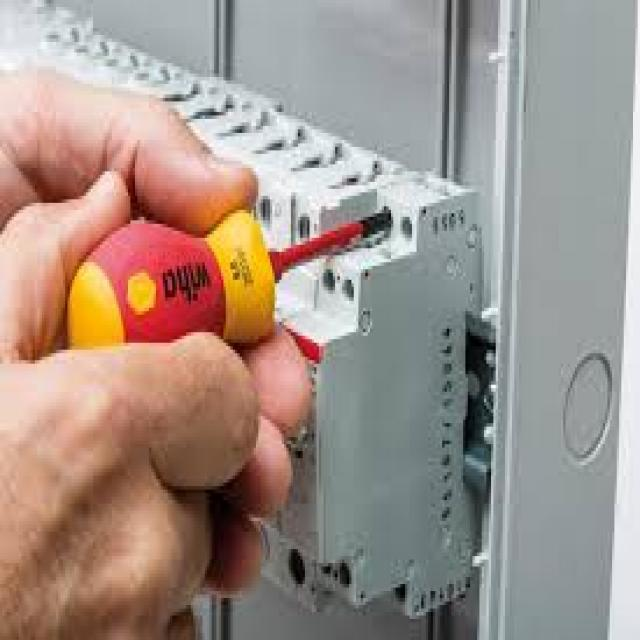screwdriver: (48, 192, 406, 402)
